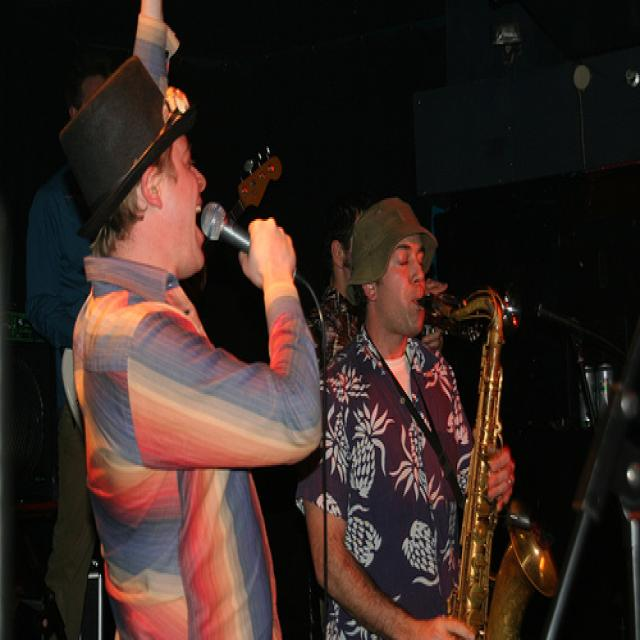person: (58, 1, 323, 639), (294, 197, 516, 639), (24, 74, 139, 639), (307, 195, 376, 639)
